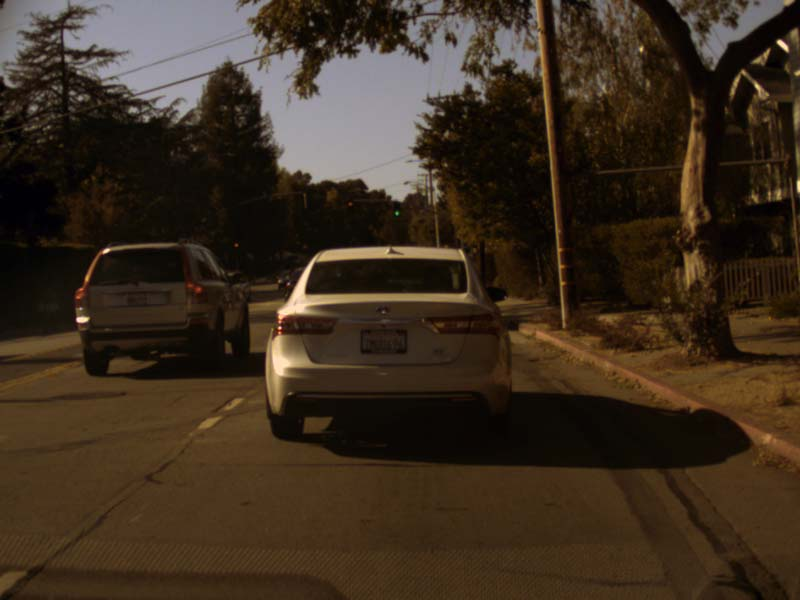Green: (392, 202, 400, 216)
Red: (347, 201, 354, 215), (233, 242, 239, 251)
